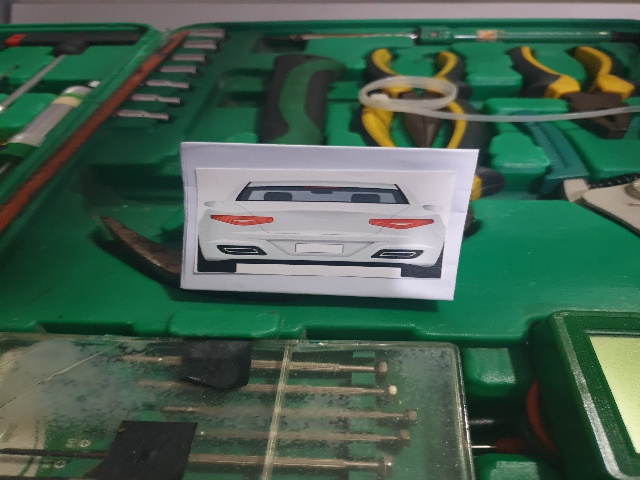Car: (192, 173, 450, 289)
